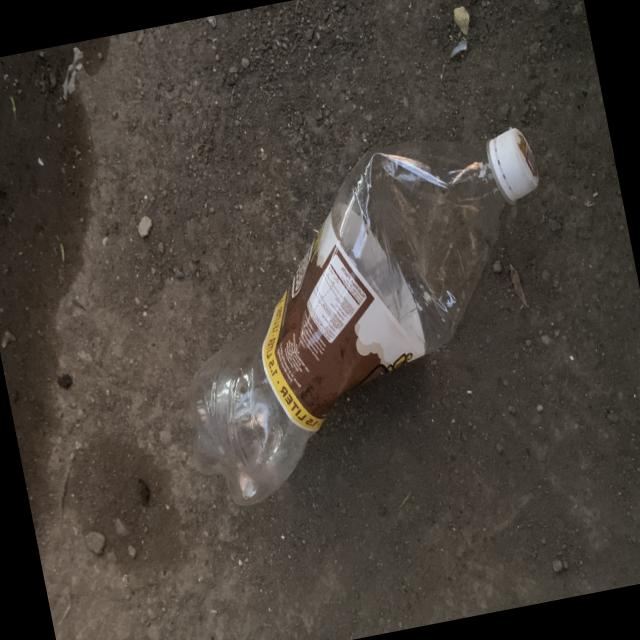Bottle: (191, 126, 541, 501)
